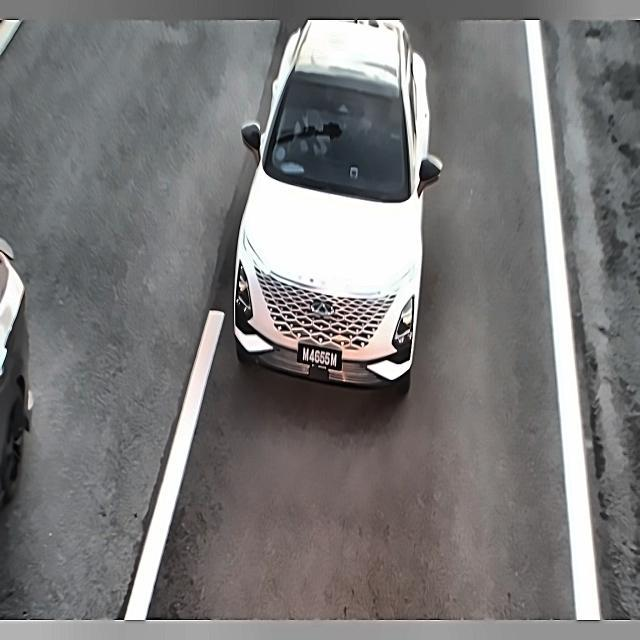car: (296, 342, 348, 377)
